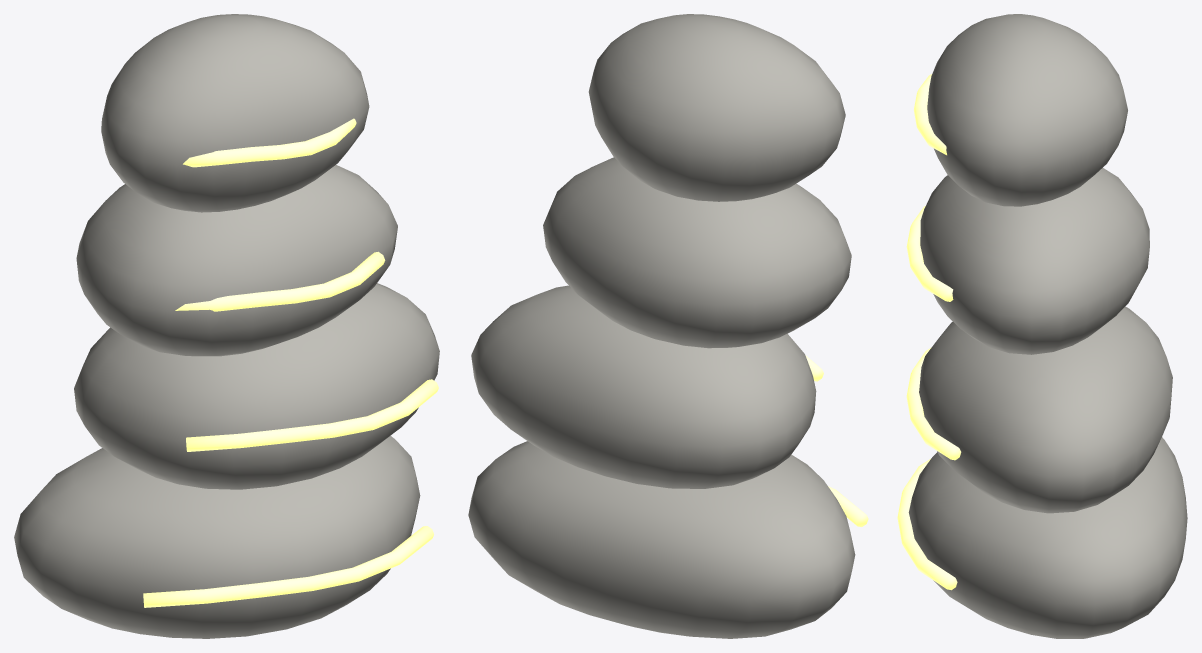
The model's file is structure-gold-veined-cairn.glb.
3 renders of one model, left to right at view 1: azimuth 30°, elevation 25°; view 2: azimuth 150°, elevation 25°; view 3: azimuth 270°, elevation 25°, orthographic. The views are drawn at different scales.
Parts seen in each view (by area): view 1: awake; view 2: awake; view 3: awake.
Part boxes in pixels (<box>): awake: <box>14,14,439,638</box>; awake: <box>468,14,868,638</box>; awake: <box>897,14,1187,638</box>.
Size of the model in its own units: 1.63 by 2.41 by 1.13.
